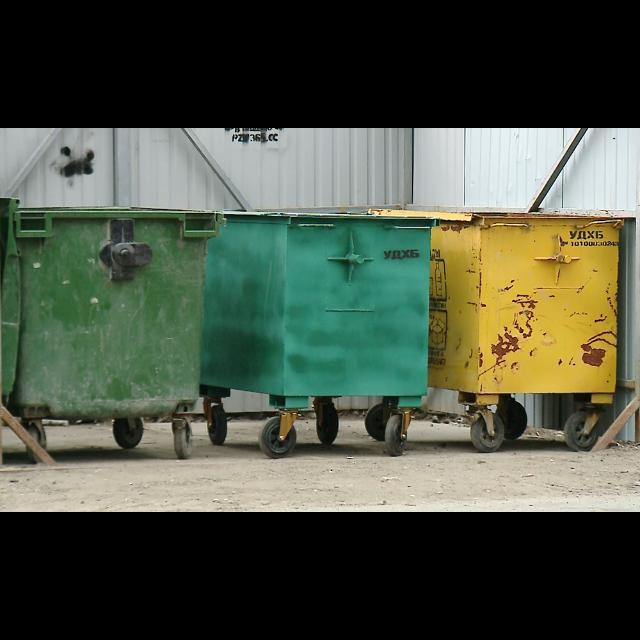Trash_Can_Empty: (0, 195, 229, 425), (367, 203, 626, 395), (203, 207, 440, 399)
